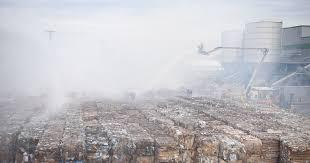smoke: (0, 0, 308, 163)
